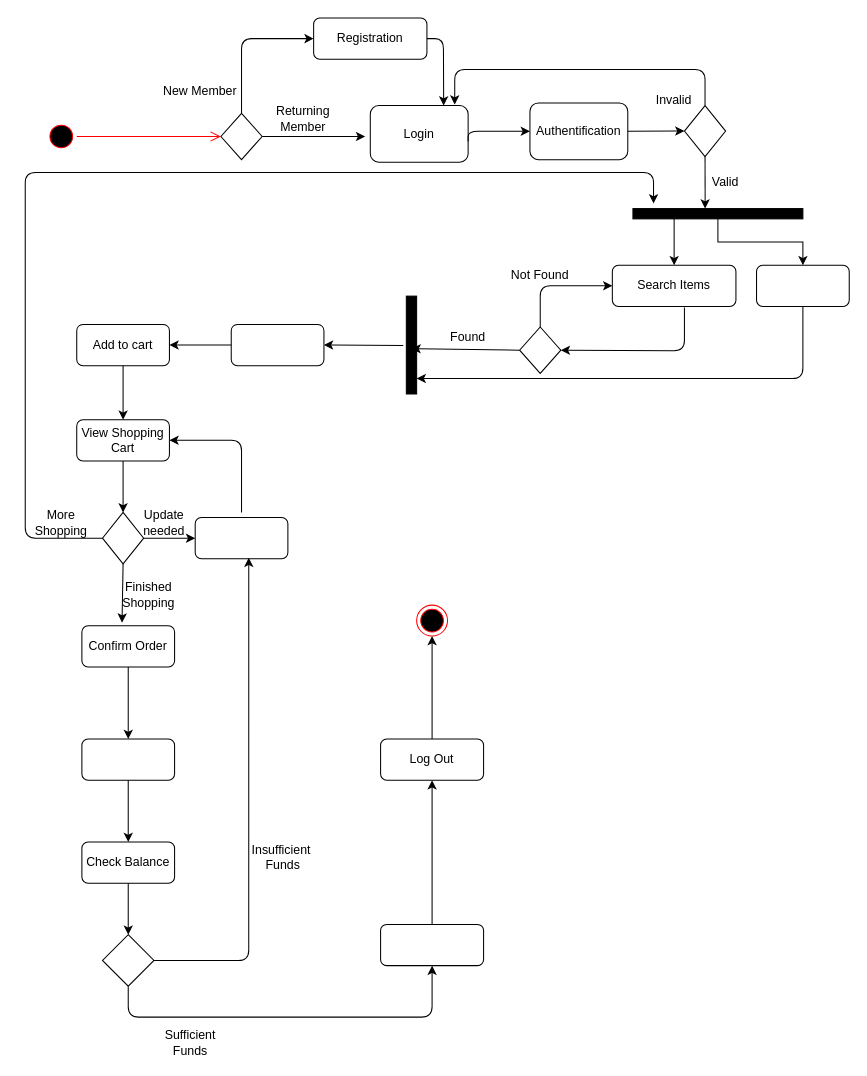
Some shapes in this 867 by 1076 pixel diagram are drawn without their labels. Here are the shapes that lost their labels. From the top down, the centre of each, then its label:
the point at 802,285: Browse Items
the point at 277,344: View Item
the point at 241,538: Updating Shopping Cart
the point at 128,759: Make Payment
the point at 432,944: Receive Order Confirmation
